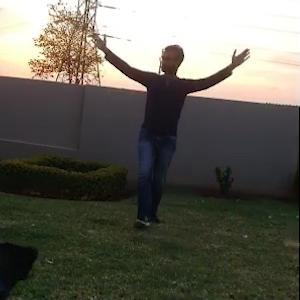takeoff: (94, 27, 266, 224)
